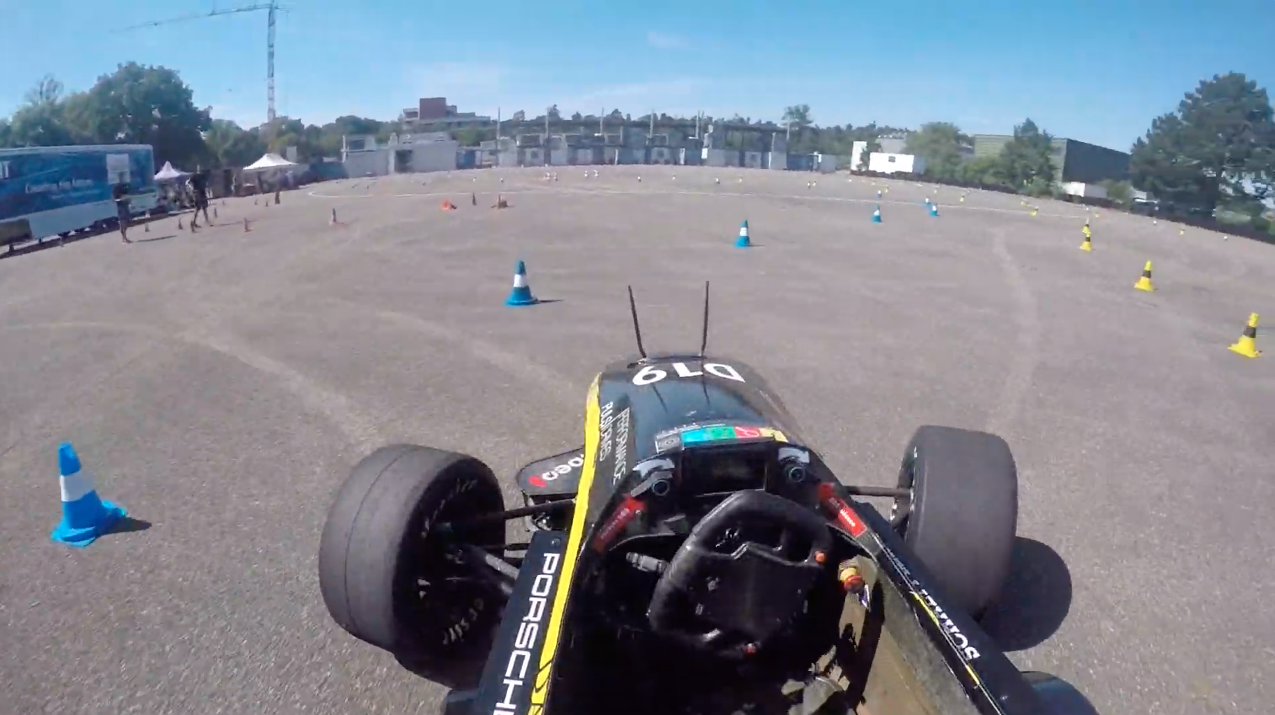lcone: (43, 441, 129, 557), (499, 256, 542, 312), (732, 217, 756, 250), (869, 203, 885, 225)
rcone: (1225, 309, 1268, 361), (1130, 258, 1161, 294), (1077, 228, 1097, 253)
